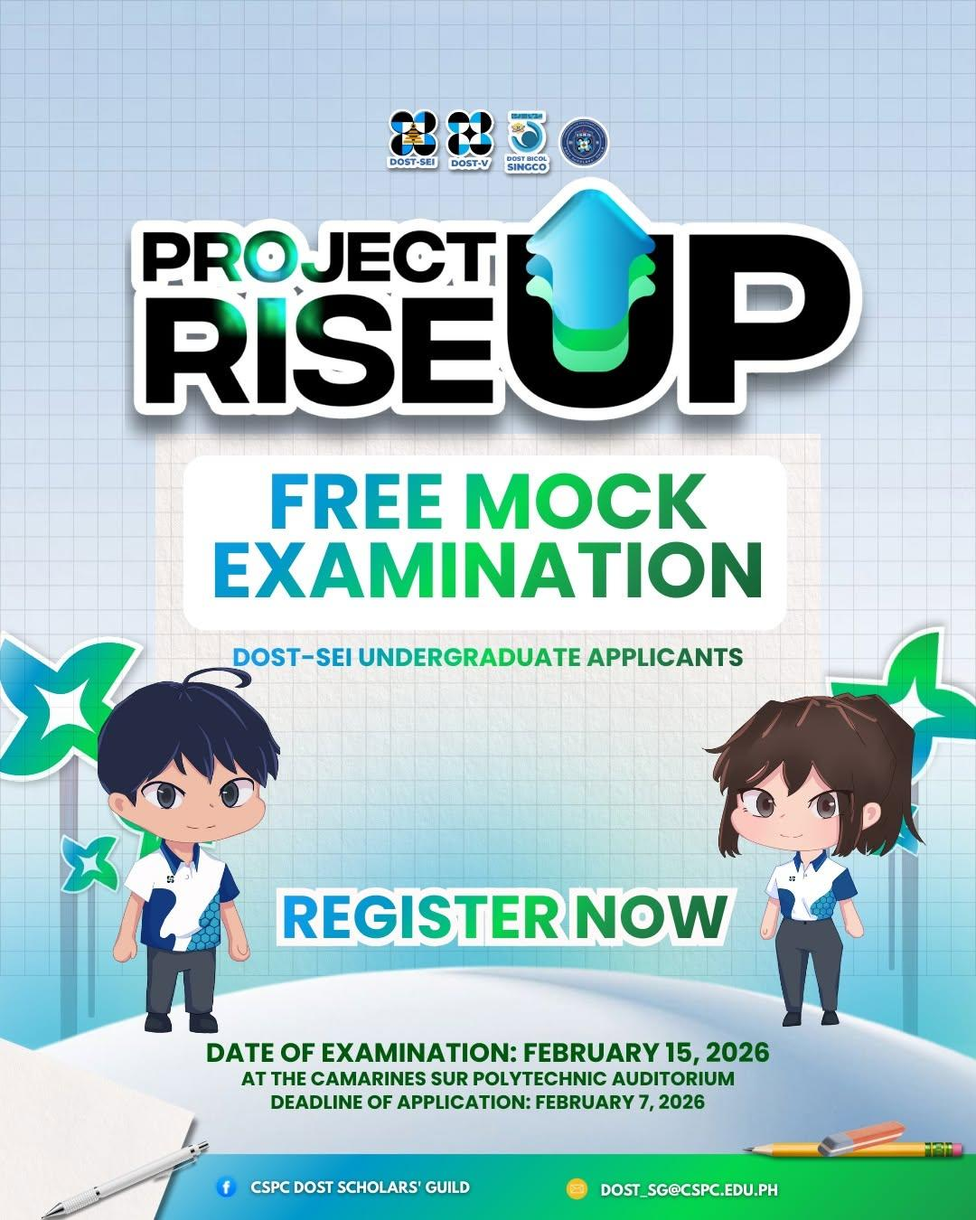embellishment: (71, 655, 264, 1038), (714, 698, 929, 1029), (0, 1035, 209, 1220), (520, 183, 662, 363), (744, 1128, 971, 1168)
logo: (376, 107, 445, 172), (497, 107, 557, 180), (444, 105, 501, 173), (558, 107, 614, 173), (560, 1168, 595, 1212), (214, 1166, 241, 1210)
text: (121, 177, 881, 422), (204, 469, 776, 604), (204, 1039, 806, 1117), (269, 882, 733, 950), (217, 639, 747, 683), (248, 1172, 478, 1206), (594, 1172, 793, 1210)
